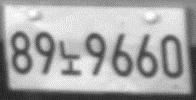0: (160, 33, 184, 78)
6: (134, 32, 160, 79), (109, 32, 134, 78)
8: (10, 30, 34, 75)
9: (85, 33, 107, 77), (35, 31, 55, 76)
노: (56, 39, 82, 77)
